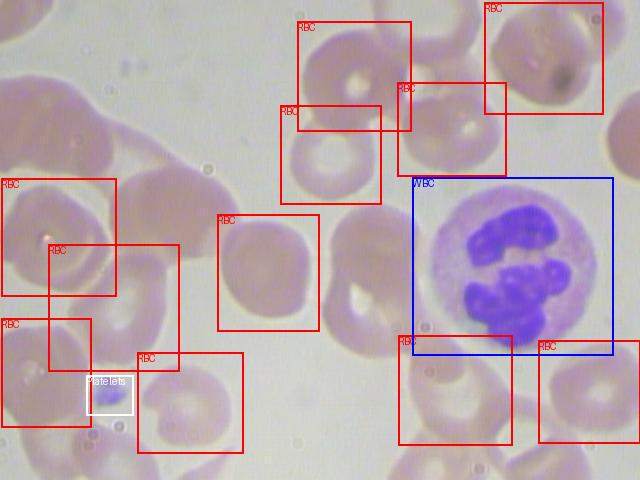Platelets: (86, 375, 133, 415)
RBC: (48, 244, 179, 371), (1, 178, 116, 296), (484, 2, 603, 114), (398, 335, 512, 445), (297, 21, 411, 131), (217, 214, 319, 331), (137, 352, 243, 453), (538, 340, 640, 443), (397, 82, 506, 176), (280, 105, 381, 204), (1, 318, 91, 427)
WBC: (412, 177, 613, 355)
